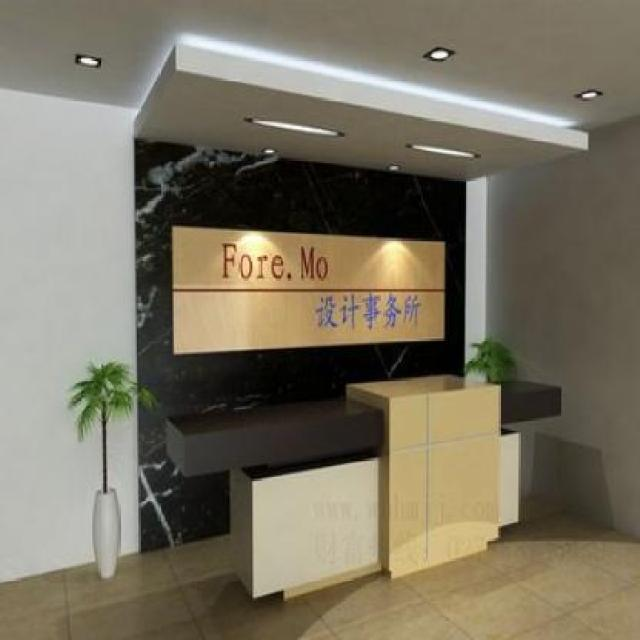frontdesk: (158, 371, 568, 608)
